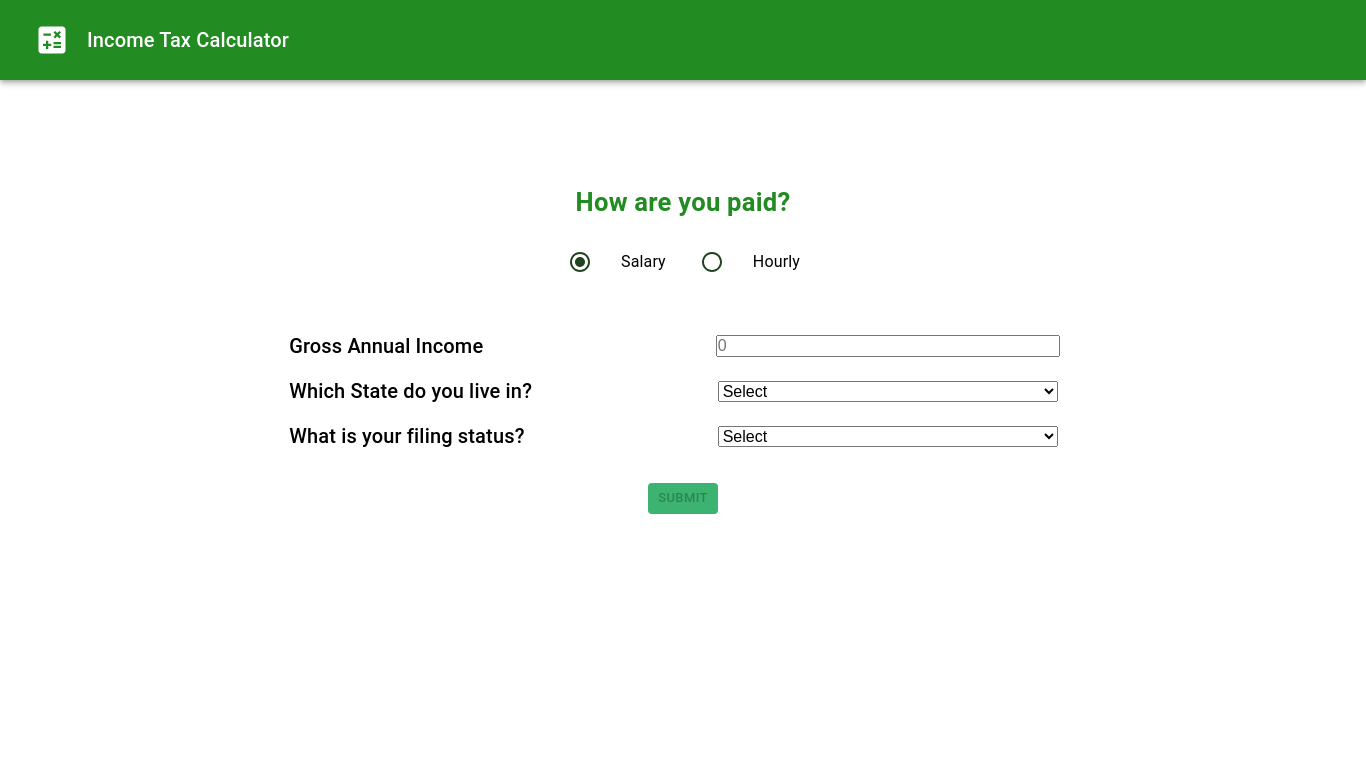
Test case: load app › App loads data correctly - salary - has state income tax result
The width and height of the screenshot is (1366, 768).
Expected: the element with test id "input-form" is shown, [289,187,1060,514]
Step 1. Type "100000" into the field named "grossAnnualIncome" → (888, 346), box [716,335,1060,357]
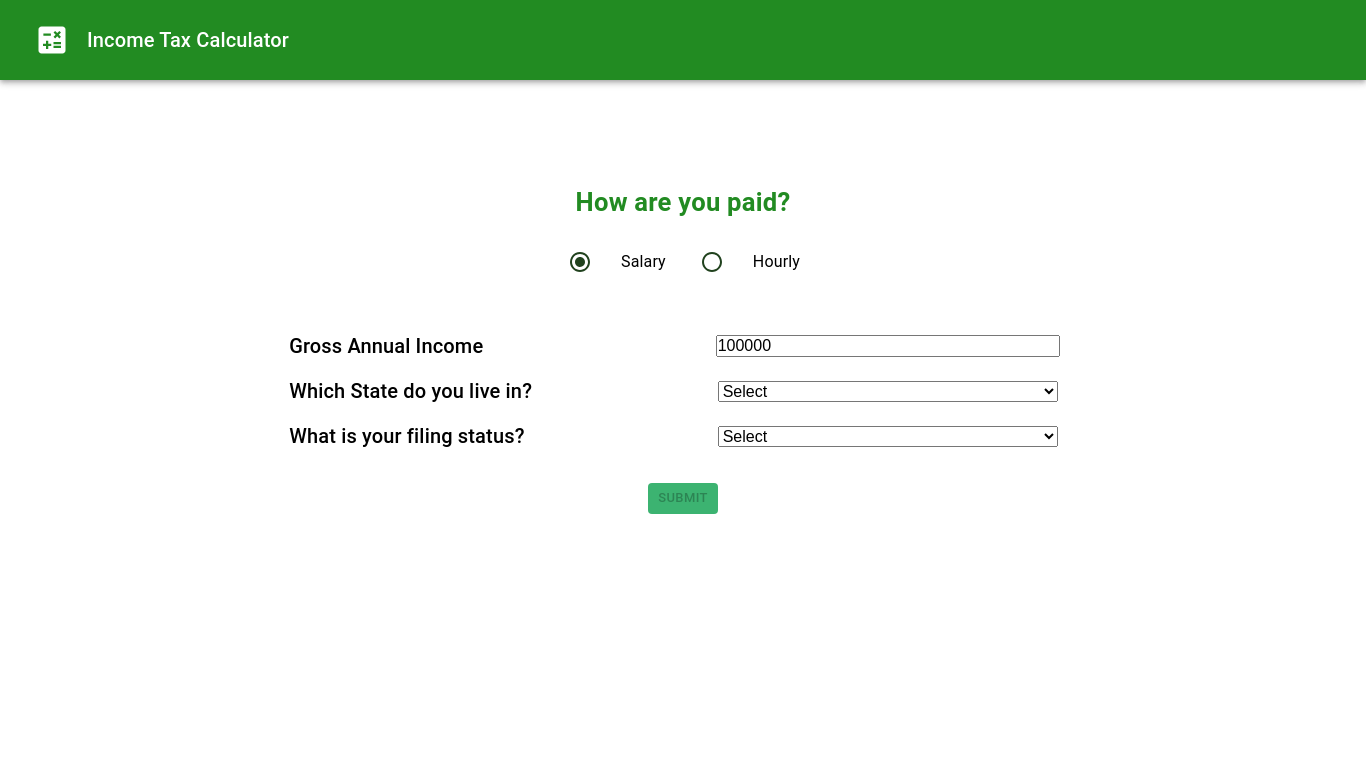
Step 2. Select "Ohio" in the dropdown with test id "stateSelect" → (888, 391), box [718,381,1058,402]
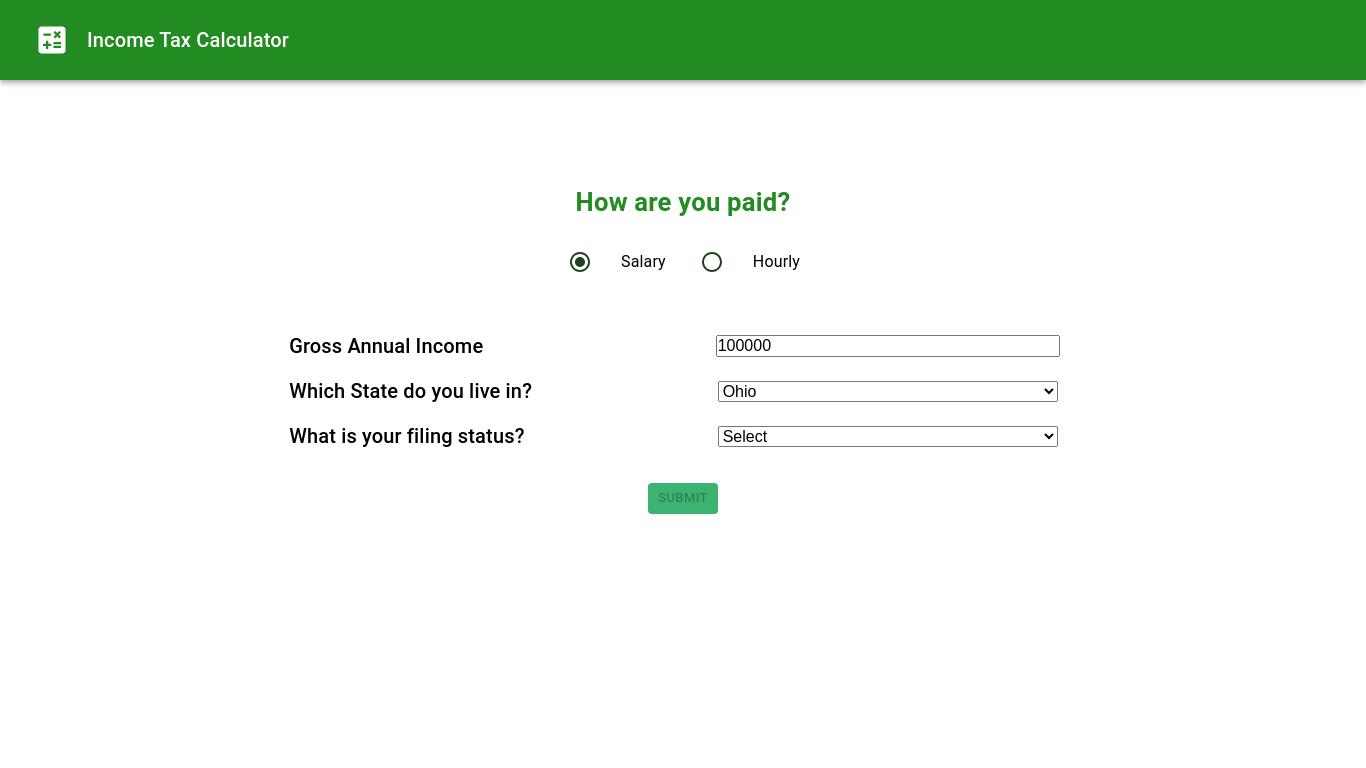
Step 3. Select "Single" in the dropdown with test id "maritalStatusSelect" → (888, 436), box [718,426,1058,447]
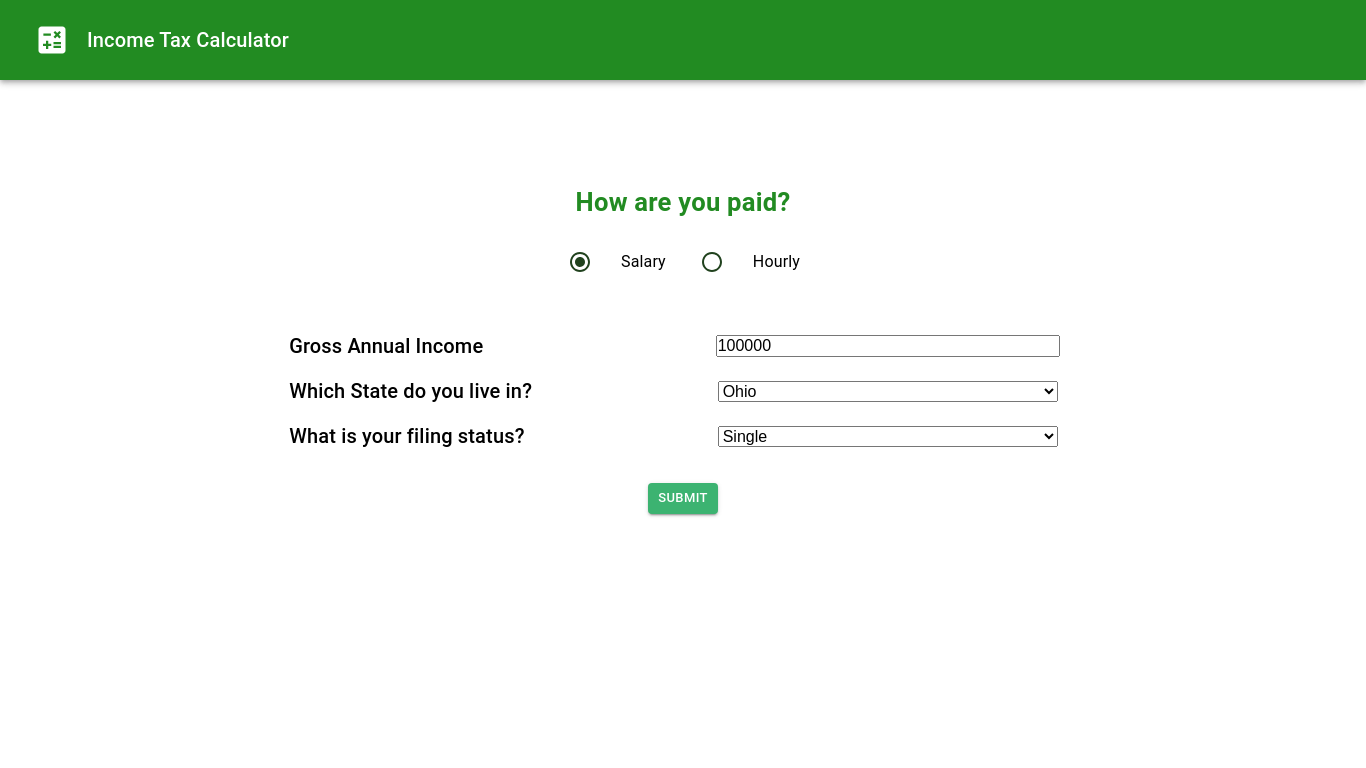
Expected: the button "Submit" is enabled
Step 4. Click the button "Submit" → (683, 498), box [648,483,718,514]
(page scrolled)
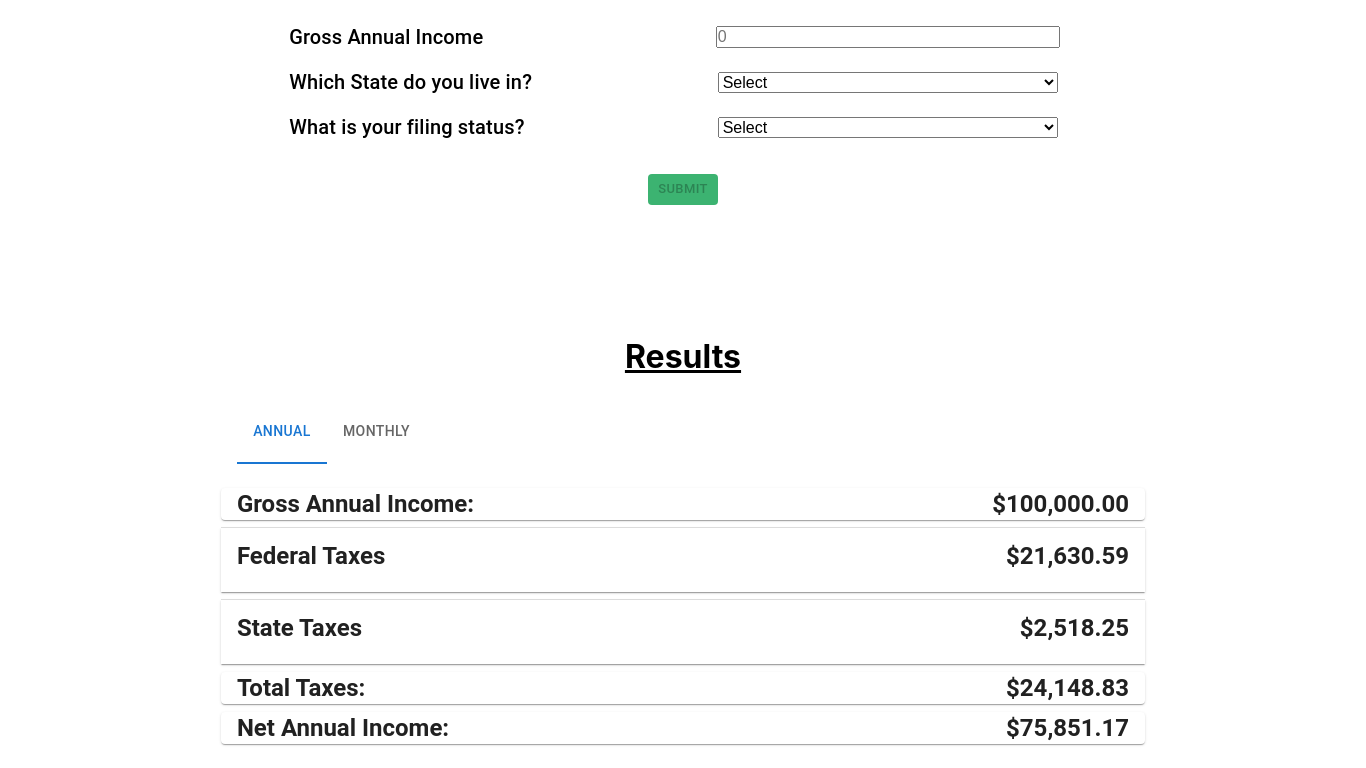
Expected: the element with test id "result-data" is shown, [205,336,1161,760]
Expected: the element with test id "state-result-data" is shown, [221,600,1145,664]
